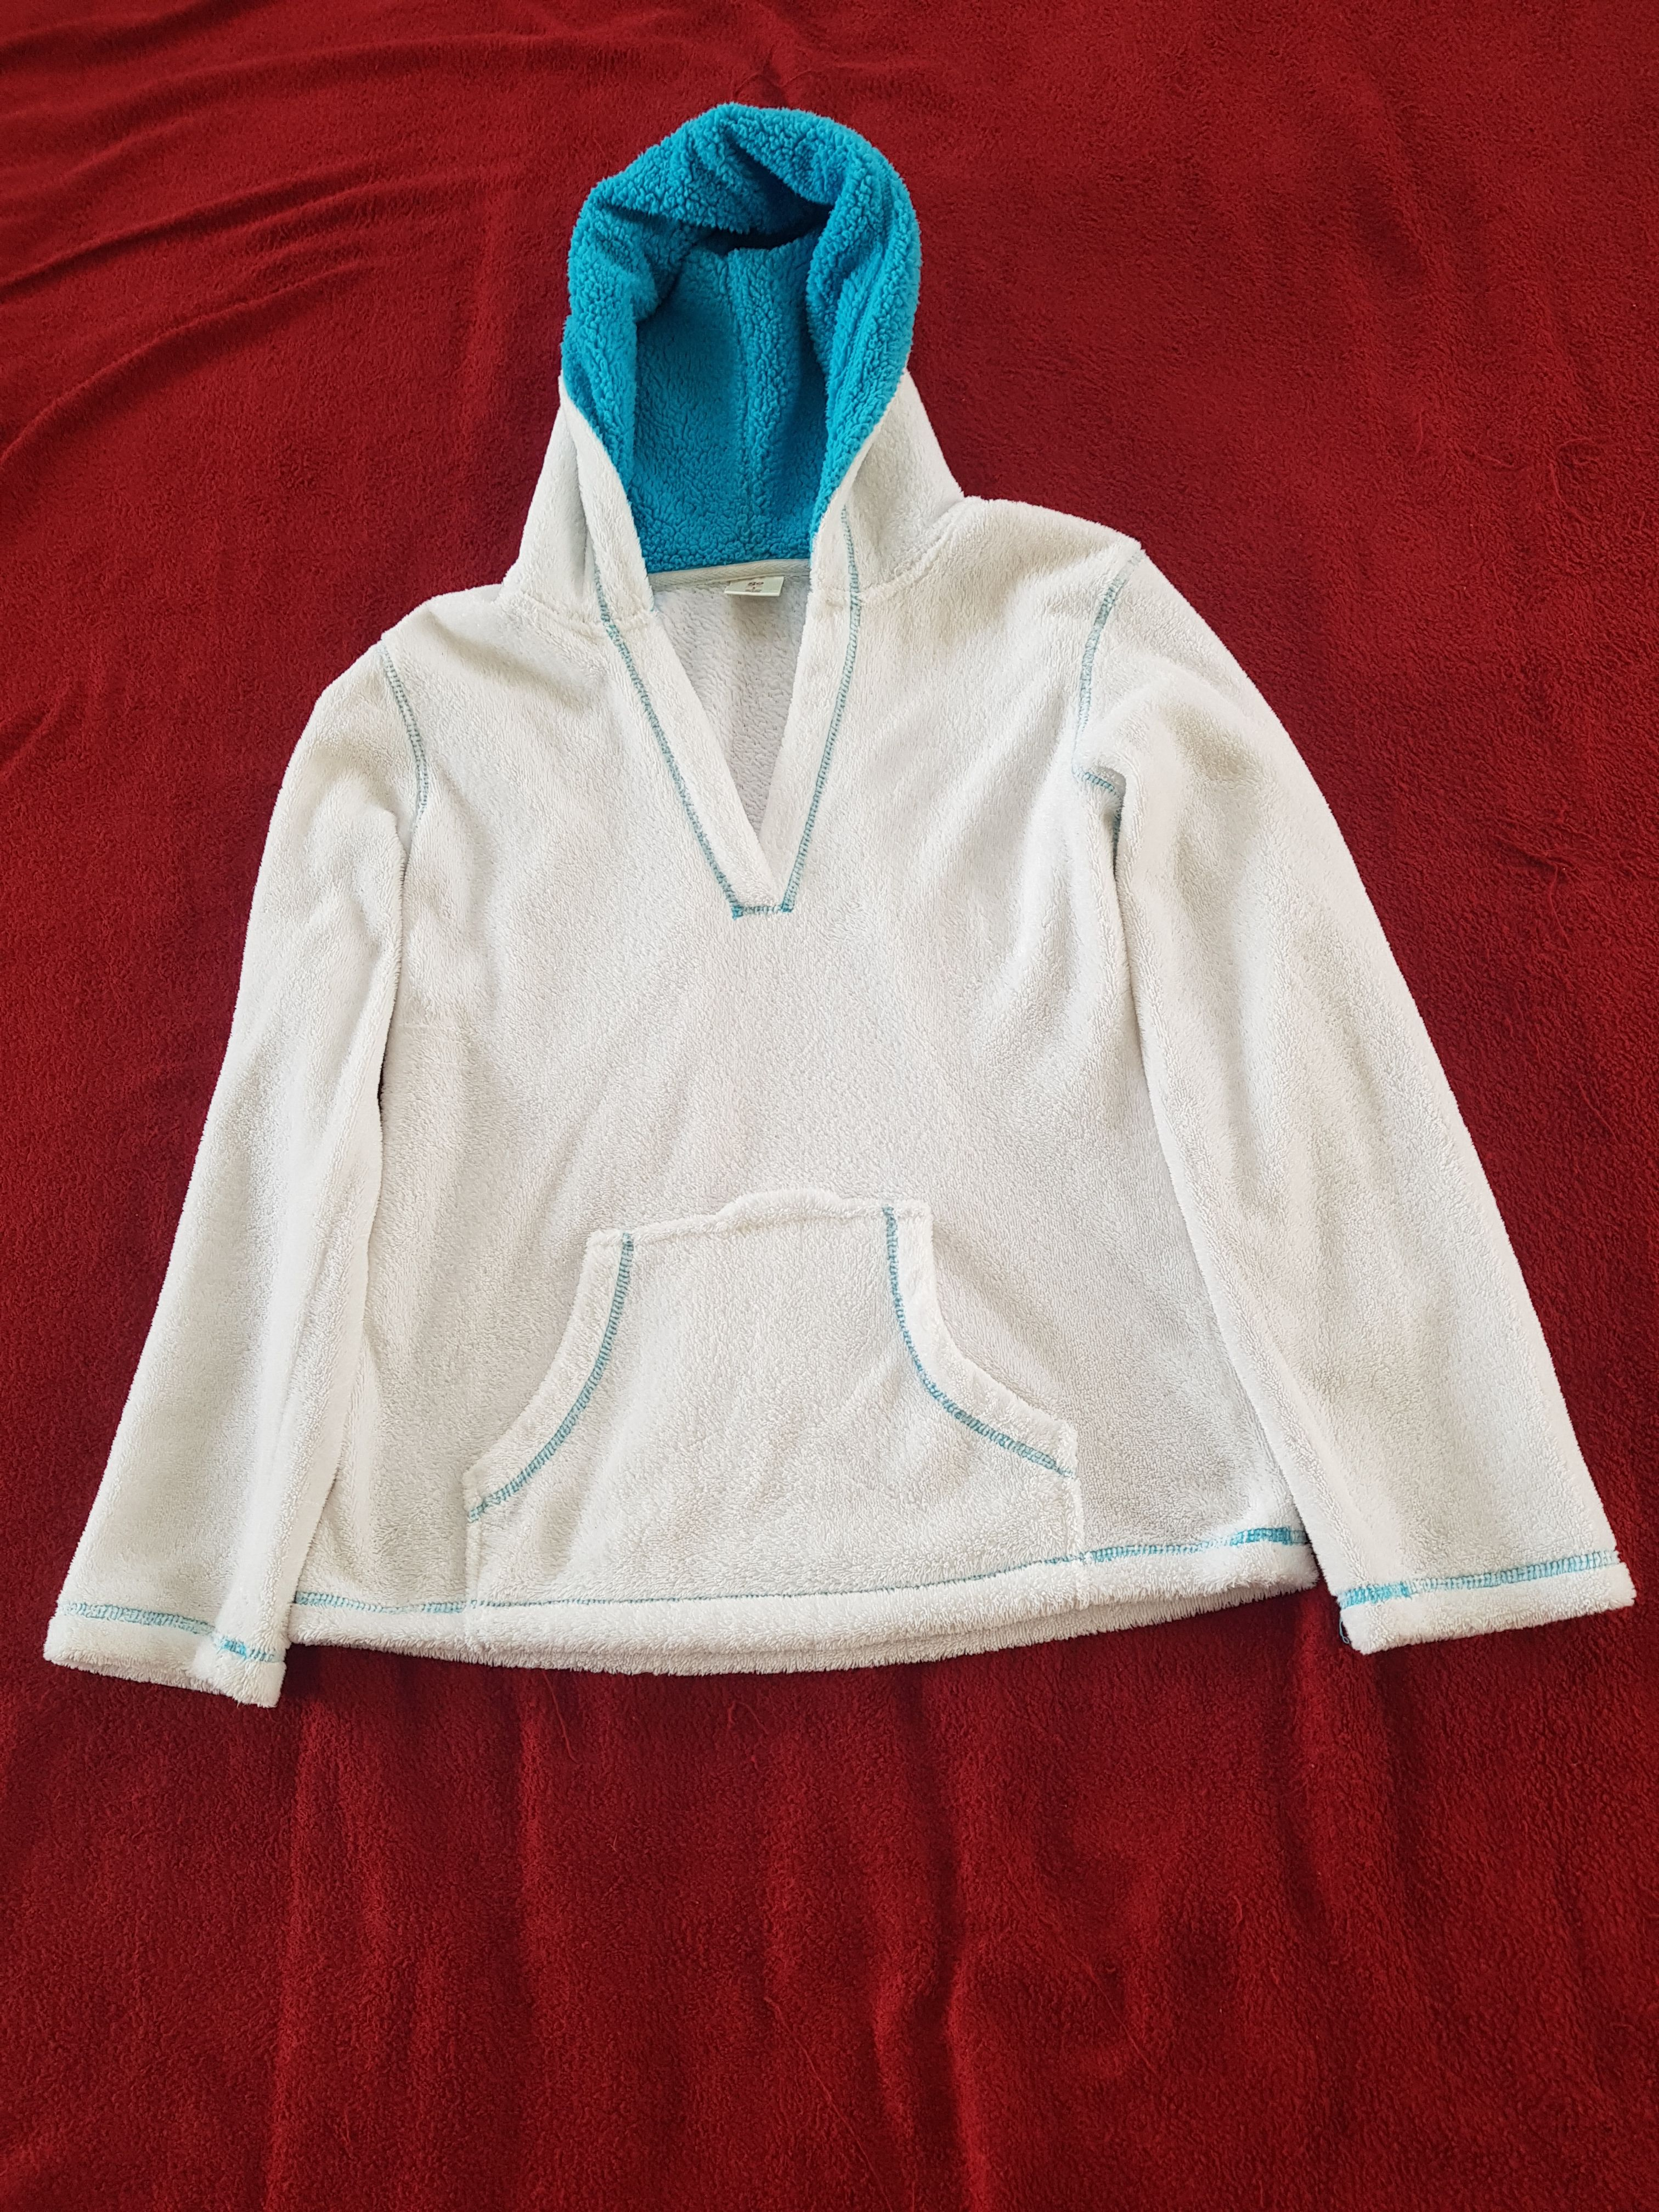clothes: (30, 101, 1633, 1745)
